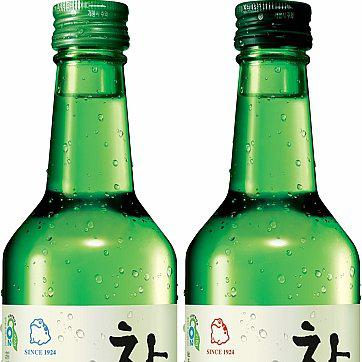soju: (2, 1, 361, 362)
